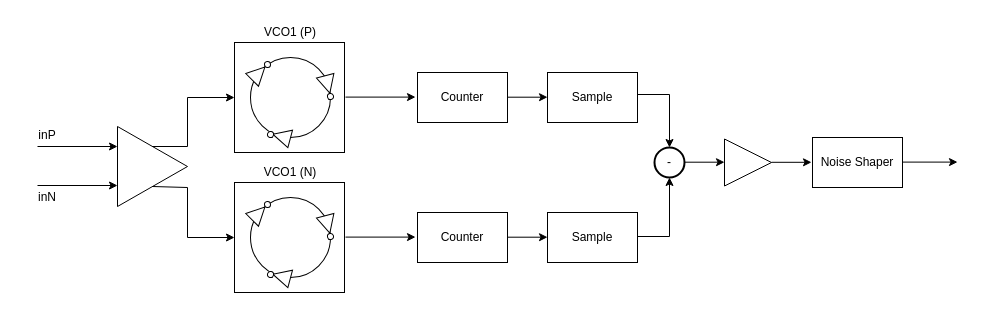
Some shapes in this 983 by 312 pixel diagram are drawn without their labels. The shapes that lost their labels are listed below. From the top down, each one's centre as x and y in pixels, then its label:
At pixel 152 166: "gm".
At pixel 748 162: "4*G".
